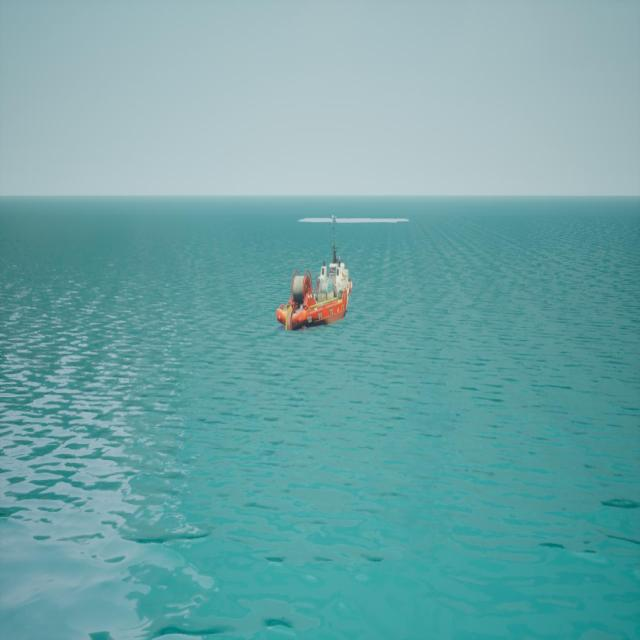tug boat: (277, 217, 351, 334)
